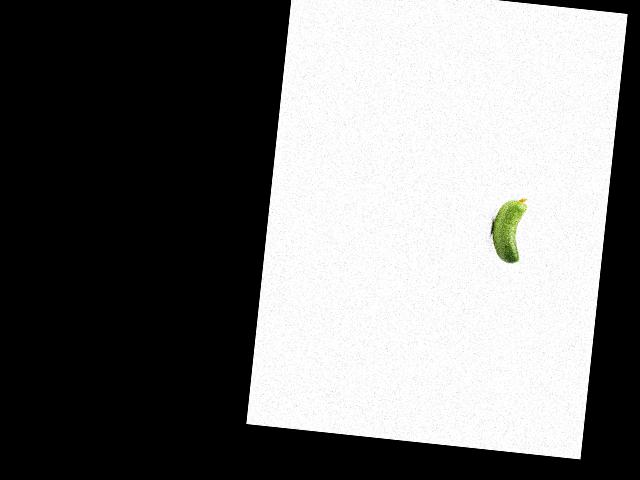cucumber: (488, 195, 528, 265)
